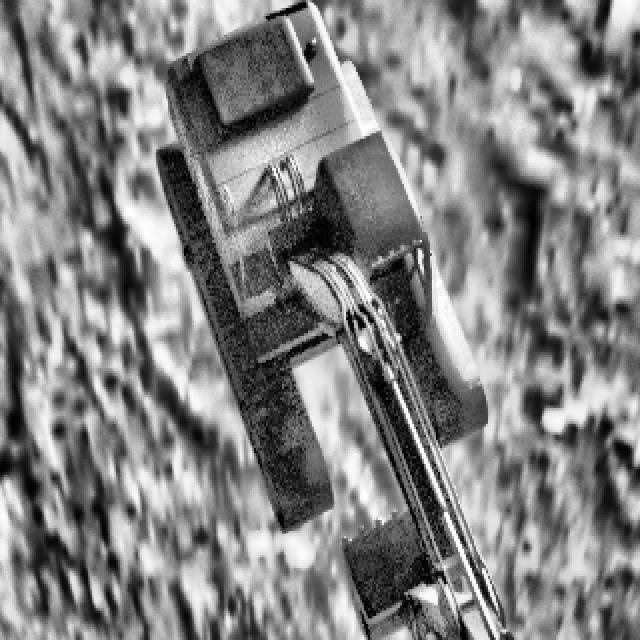excavator: (154, 0, 514, 640)
